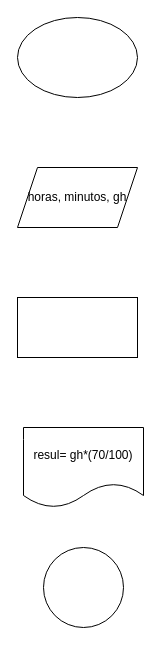
The diagram is 161 pixels wide and 645 high, and some of its shapes have lost their labels. The shapes that lost their labels are listed below. From the top down, each one's centre as x and y in pixels, then its label:
At [77,57]: "inicio".
At [77,327]: "horas=45/60+15 gh = horas*25".
